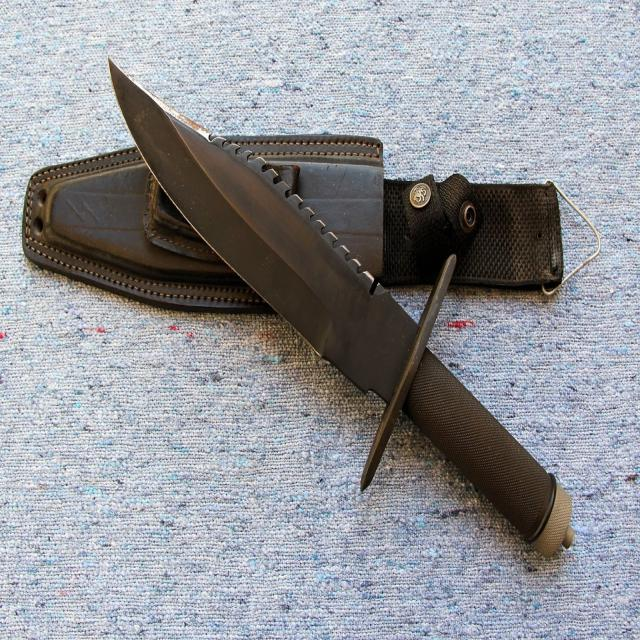knife: (104, 51, 579, 572)
